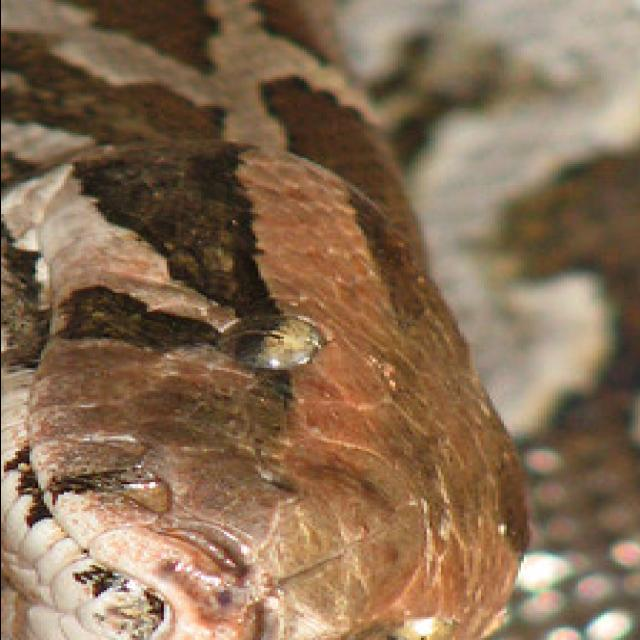snake: (0, 0, 537, 640)
